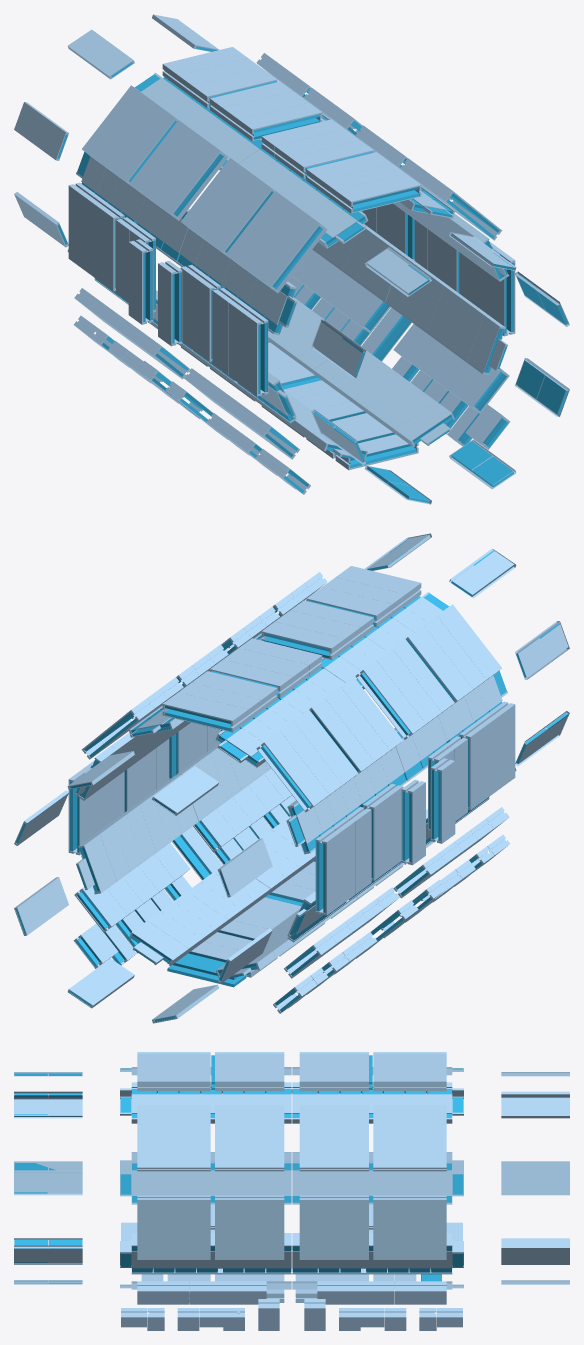
File: muon-barrel-inner.glb
The picture shows the model from 3 angles, top to bottom: view 1: azimuth 30°, elevation 25°; view 2: azimuth 150°, elevation 25°; view 3: azimuth 270°, elevation 25°; orthographic projection. The views are drawn at different scales.
Visible parts, largest first — view 1: barrel_inner_external, barrel-inner-internal; view 2: barrel_inner_external, barrel-inner-internal; view 3: barrel_inner_external, barrel-inner-internal.
Part boxes in pixels (left/top/right/bottom): barrel_inner_external: left=14, top=14, right=569, bottom=504; barrel-inner-internal: left=57, top=46, right=568, bottom=502; barrel_inner_external: left=14, top=533, right=569, bottom=1023; barrel-inner-internal: left=15, top=535, right=568, bottom=1021; barrel_inner_external: left=14, top=1052, right=569, bottom=1330; barrel-inner-internal: left=14, top=1055, right=463, bottom=1283.
Size of the model in its own units: 11.1 by 10.75 by 23.61.
